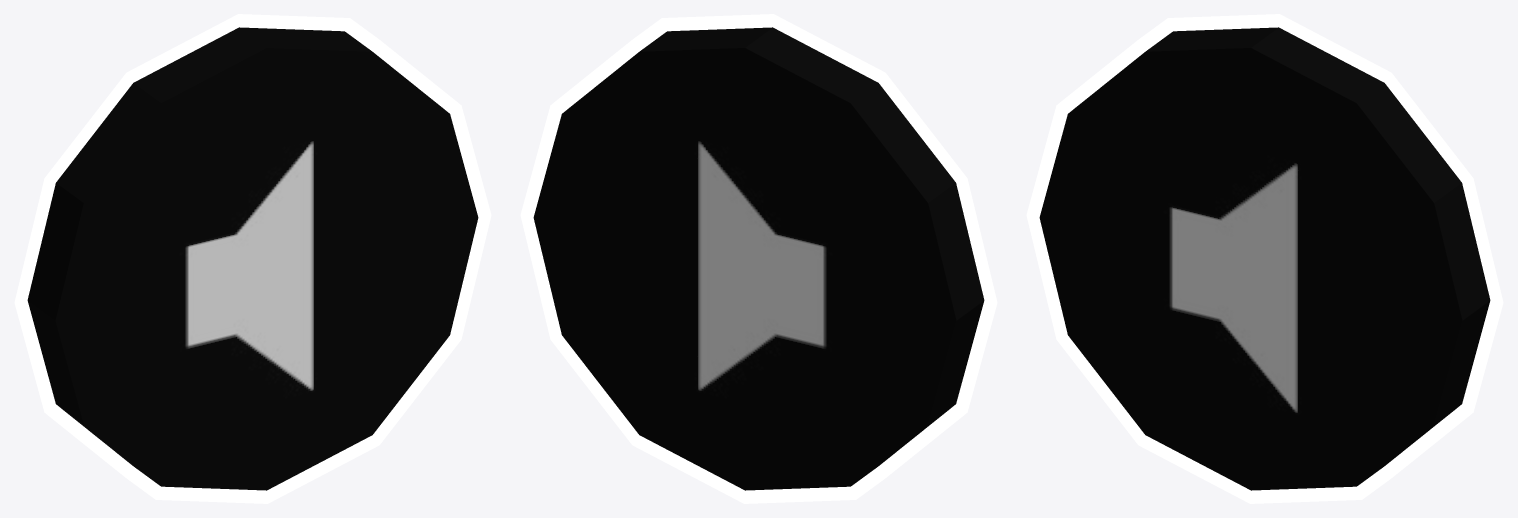
File: music.glb
3 views of the same model, side by side, from view 1: azimuth 30°, elevation 25°; view 2: azimuth 150°, elevation 25°; view 3: azimuth 330°, elevation 25° (orthographic).
Visible parts, largest first — view 1: Music, Outline; view 2: Music, Outline; view 3: Music, Outline.
Boxes of the visible parts, box(x1,y1,x2,y2) form: Music: box(27, 27, 478, 490); Outline: box(14, 14, 491, 503); Music: box(533, 27, 984, 490); Outline: box(520, 14, 997, 503); Music: box(1039, 27, 1490, 490); Outline: box(1026, 14, 1503, 503).
Size of what is drawn, in the model's own units: 0.6686 by 0.6686 by 0.0764.
2 materials, 2 textured.
